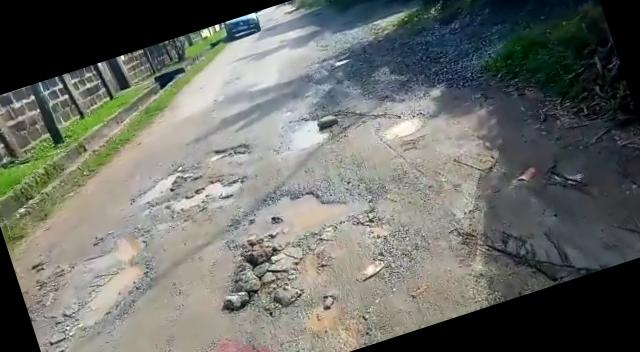pothole: (212, 166, 382, 269), (62, 260, 154, 332), (165, 171, 248, 219), (130, 168, 188, 208), (279, 111, 333, 152), (107, 227, 149, 266), (381, 112, 425, 143)
